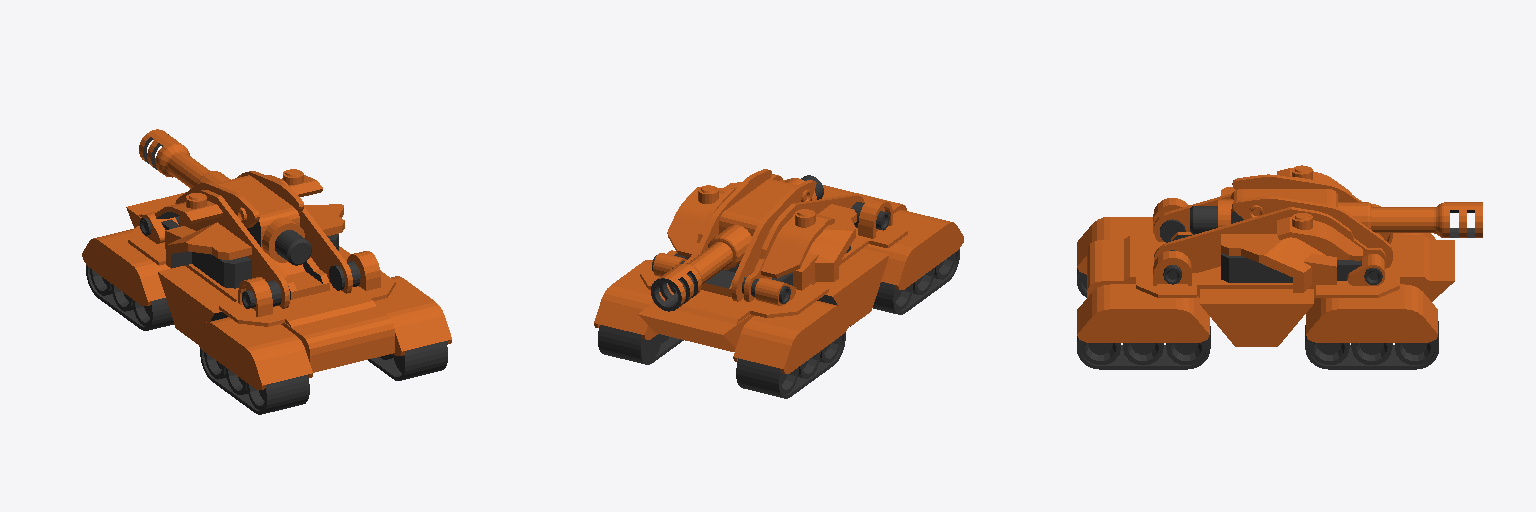
File: tank.obj
The picture shows the model from 3 angles: view 1: azimuth 30°, elevation 25°; view 2: azimuth 150°, elevation 25°; view 3: azimuth 270°, elevation 25°; orthographic projection.
Parts seen in each view (by area): view 1: head, body; view 2: head, body; view 3: head, body.
Boxes of the visible parts, <box> form: head: <box>128,129,395,326</box>; body: <box>82,192,451,414</box>; head: <box>640,169,907,323</box>; body: <box>594,185,963,398</box>; head: <box>1124,165,1482,297</box>; body: <box>1077,217,1454,369</box>.
Size of the model in its own units: 1.02 by 0.7099 by 1.89.